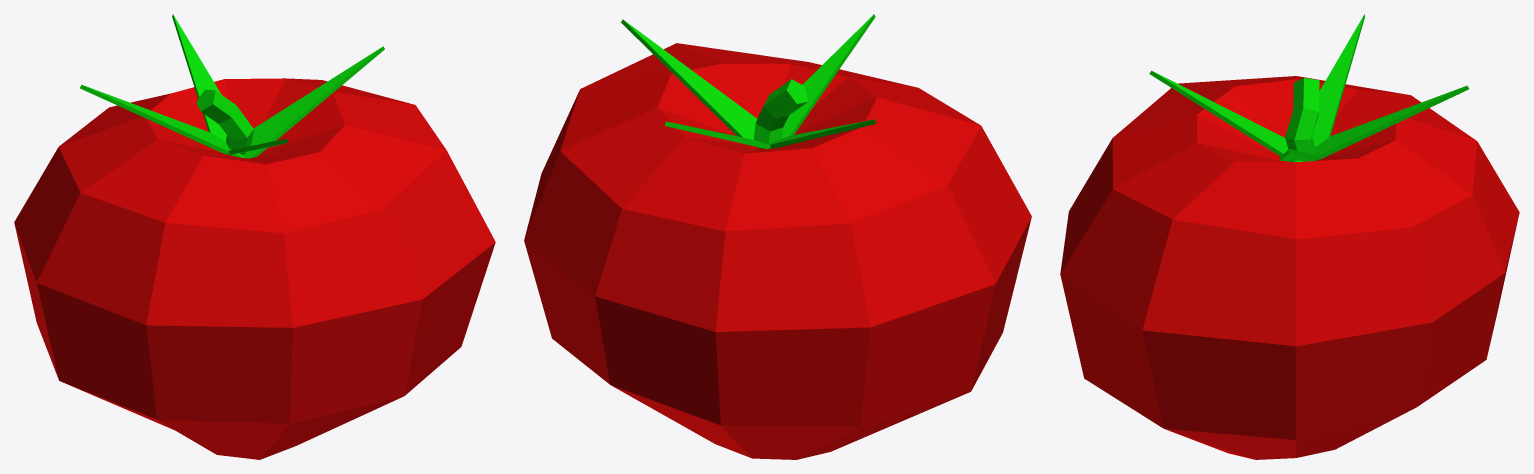
The model's file is Ingredients_Tomato.fbx.
3 views of the same model, side by side, from view 1: azimuth 30°, elevation 25°; view 2: azimuth 150°, elevation 25°; view 3: azimuth 270°, elevation 25° (orthographic). The views are drawn at different scales.
Visible parts, largest first — view 1: tomato; view 2: tomato; view 3: tomato.
Boxes of the visible parts, bbox=[...] form: tomato: bbox=[14, 14, 495, 459]; tomato: bbox=[524, 14, 1031, 459]; tomato: bbox=[1060, 14, 1519, 459].
Bounding box in the file's own units: 5.26 × 4.3 × 4.86.
